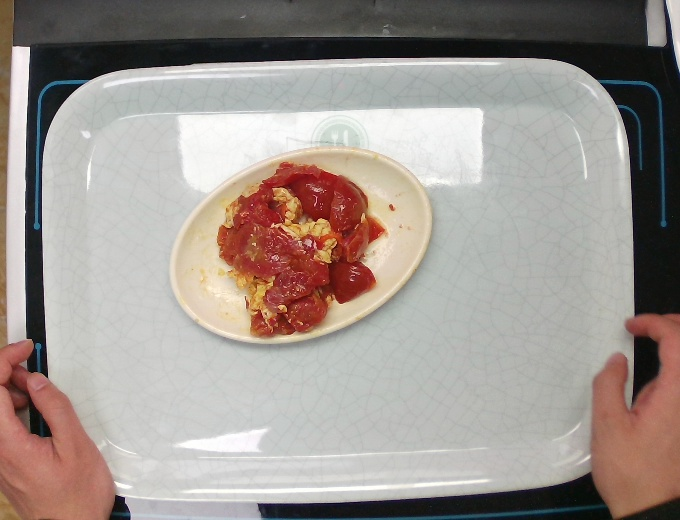JYsf-Tuo_Yuan_Wan: (163, 141, 437, 348)
